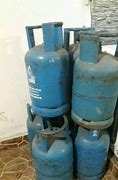blue_gas: (70, 26, 116, 129), (24, 21, 71, 117), (26, 115, 74, 180), (73, 125, 111, 180)
